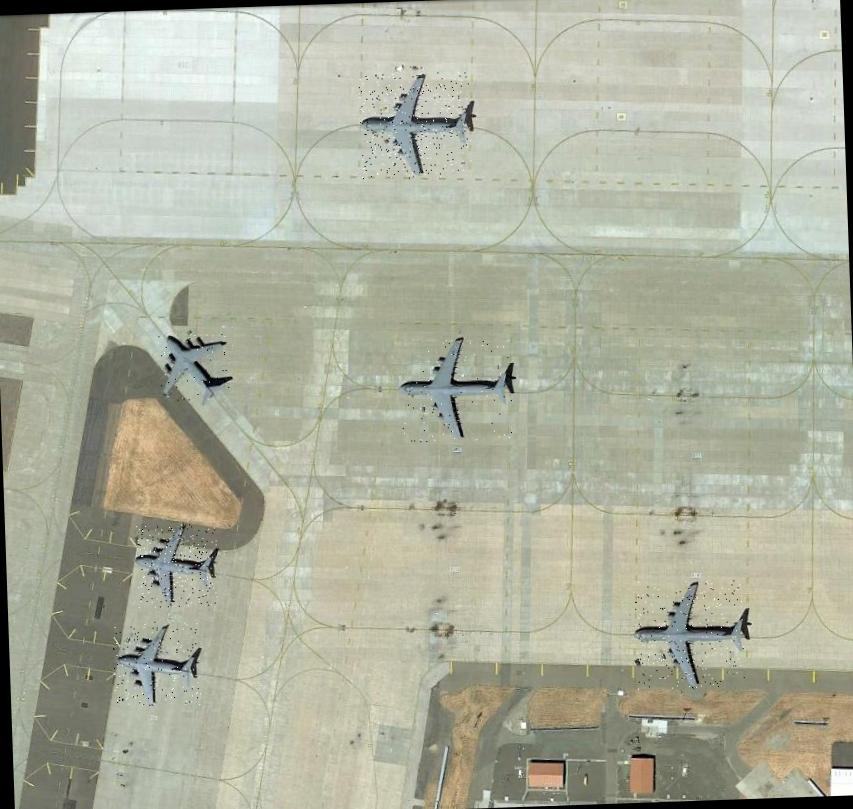A3: (112, 619, 200, 707), (135, 522, 218, 608), (156, 332, 228, 400)
A4: (396, 334, 512, 443), (632, 577, 744, 689), (357, 71, 471, 180)
